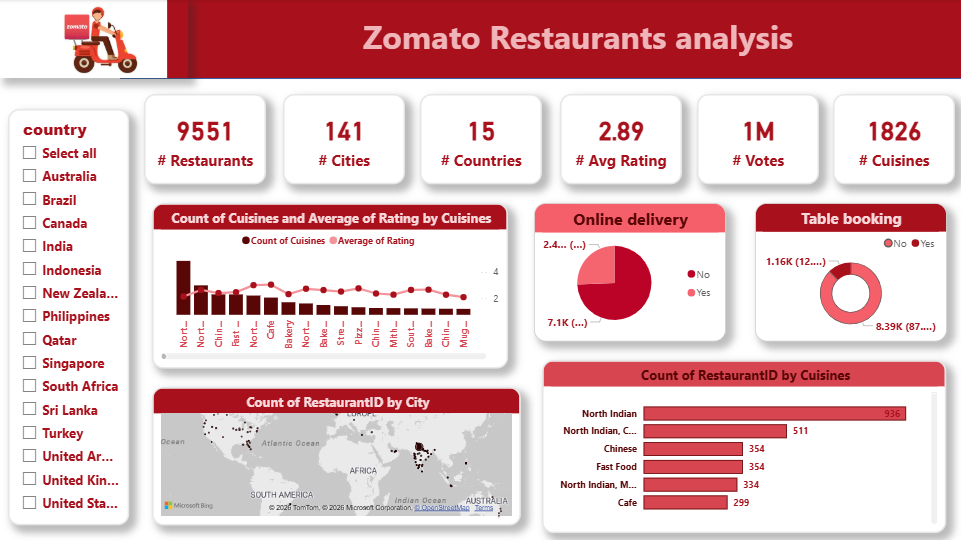

The dashboard page shown, as its layout file describes it:
{"tool":"powerbi","page":{"name":"Dashboard","canvas":[1280,720],"ordinal":0},"visuals":[{"type":"shape","box":[159.5,0,1121,106],"z":0},{"type":"image","box":[0,0,250.2,105.4],"z":1000},{"type":"textbox","box":[458,16.1,619,71.7],"z":2000},{"type":"card","fields":{"Values":["CountNonNull(restaurants.RestaurantID)"]},"box":[191.7,125.9,162.4,120],"z":3000},{"type":"card","fields":{"Values":["Count(restaurants.City)"]},"box":[376.1,125.9,162.4,120],"z":4000},{"type":"card","fields":{"Values":["Count(restaurants.CountryCode)"]},"box":[557.6,125.9,162.4,120],"z":5000},{"type":"card","fields":{"Values":["Avg(restaurants.Rating)"]},"box":[743.4,125.9,162.4,120],"z":6000},{"type":"card","fields":{"Values":["Sum(restaurants.Votes)"]},"box":[926.3,125.9,162.4,120],"z":7000},{"type":"card","fields":{"Values":["Count(restaurants.Cuisines)"]},"box":[1106.3,125.9,162.4,120],"z":8000},{"type":"slicer","fields":{"Values":["countries.country name"]},"box":[10.2,146.3,161,553.2],"z":9000},{"type":"lineStackedColumnComboChart","fields":{"Category":["restaurants.Cuisines"],"Y":["CountNonNull(restaurants.Cuisines)"],"Y2":["Avg(restaurants.Rating)"]},"box":[202,270.7,472.7,219.5],"z":10000},{"type":"clusteredBarChart","fields":{"Y":["CountNonNull(restaurants.RestaurantID)"],"Category":["restaurants.Cuisines","restaurants.City"]},"box":[720,480,537.1,229.8],"z":11000},{"type":"map","fields":{"Size":["CountNonNull(restaurants.RestaurantID)"],"Category":["restaurants.City"]},"box":[202,515.1,490.2,184.4],"z":12000},{"type":"pieChart","title":"Online delivery","fields":{"Category":["restaurants.Has_Online_delivery"],"Y":["CountNonNull(restaurants.RestaurantID)"]},"box":[709.8,270.7,254.6,184.4],"z":12001},{"type":"donutChart","title":"Table booking","fields":{"Y":["CountNonNull(restaurants.RestaurantID)"],"Category":["restaurants.Has_Table_booking"]},"box":[1002.4,270.7,254.6,184.4],"z":12002}]}

Visuals, with their boxes in screenshot pixels (x1, y1, x2, y2), scaled from the page's 1280x720 canvas onto the 961x540 screenshot:
shape: crop(120, 0, 960, 80)
image: crop(0, 0, 188, 79)
textbox: crop(344, 12, 809, 66)
card - CountNonNull(restaurants.RestaurantID): crop(144, 94, 266, 184)
card - Count(restaurants.City): crop(282, 94, 404, 184)
card - Count(restaurants.CountryCode): crop(419, 94, 541, 184)
card - Avg(restaurants.Rating): crop(558, 94, 680, 184)
card - Sum(restaurants.Votes): crop(695, 94, 817, 184)
card - Count(restaurants.Cuisines): crop(831, 94, 953, 184)
slicer - countries.country name: crop(8, 110, 129, 525)
lineStackedColumnComboChart - restaurants.Cuisines x CountNonNull(restaurants.Cuisines): crop(152, 203, 507, 368)
clusteredBarChart - CountNonNull(restaurants.RestaurantID) x restaurants.Cuisines: crop(541, 360, 944, 532)
map - CountNonNull(restaurants.RestaurantID) x restaurants.City: crop(152, 386, 520, 525)
"Online delivery" pieChart: crop(533, 203, 724, 341)
"Table booking" donutChart: crop(753, 203, 944, 341)
